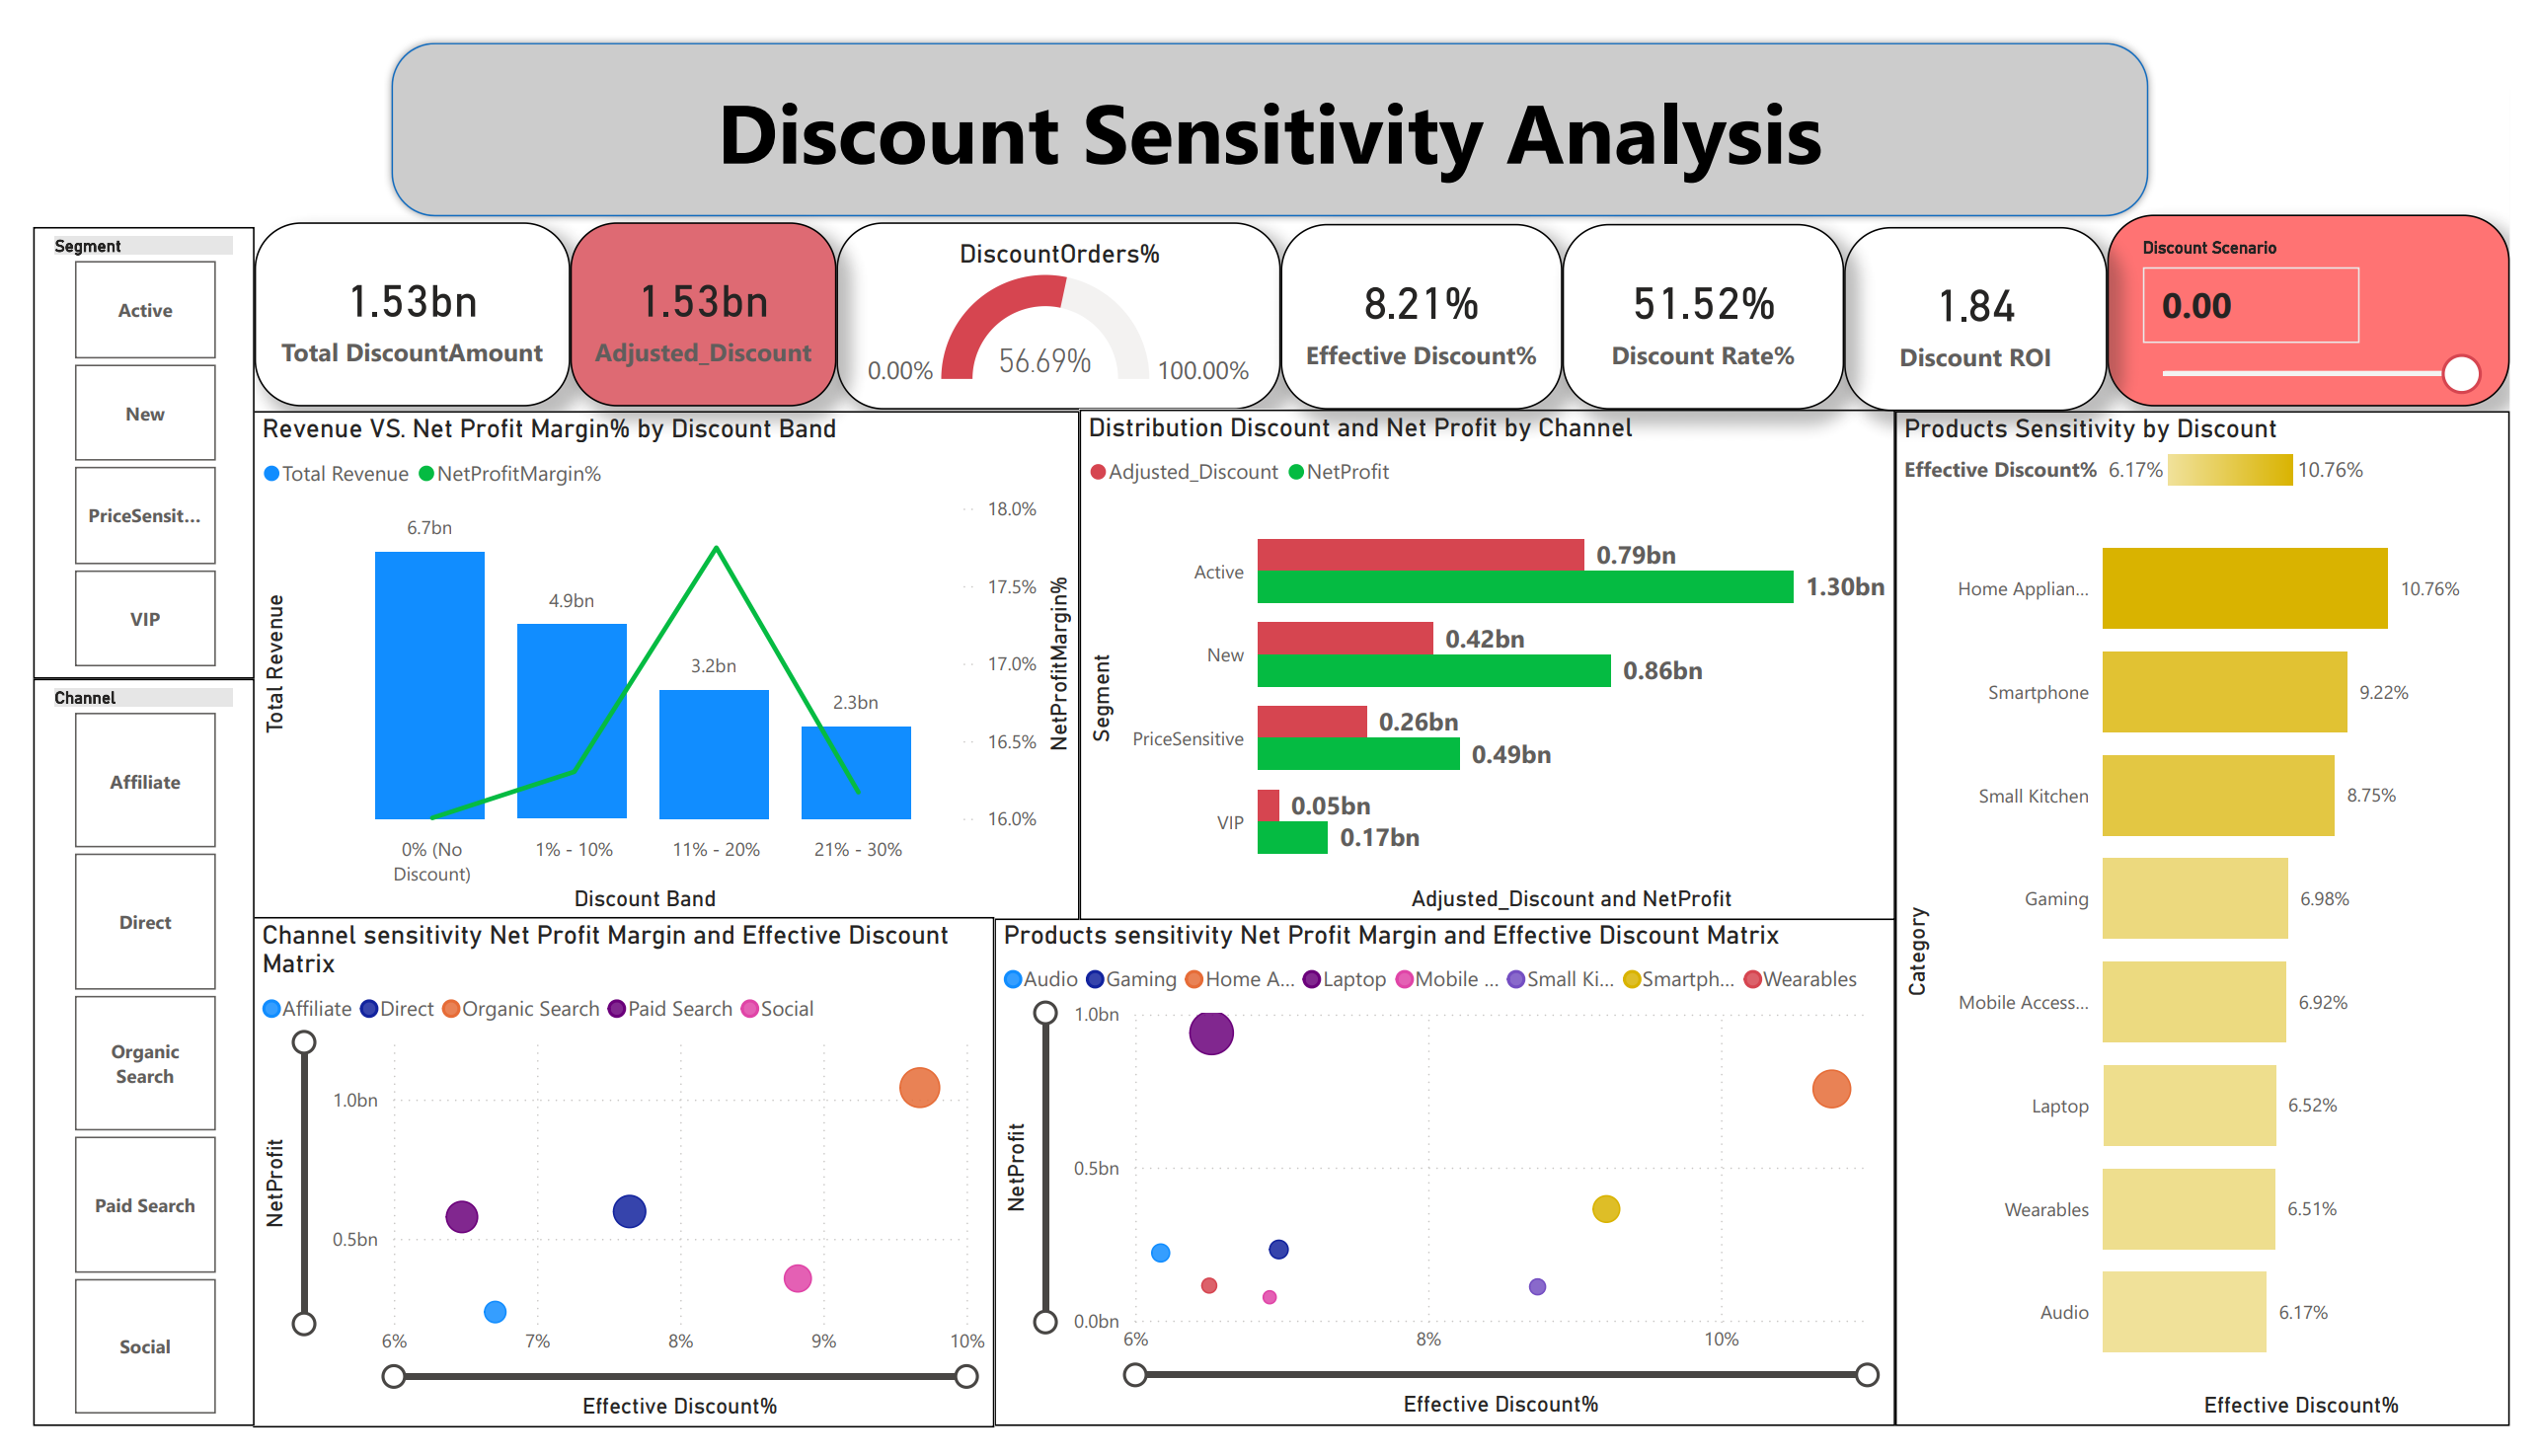

This screenshot's page, from the dashboard's own definition file:
{"tool":"powerbi","page":{"name":"Discount Sensitivity","canvas":[1600,900],"ordinal":1},"visuals":[{"type":"card","fields":{"Values":["Measure_List.Total DiscountAmount"]},"box":[142.8,120.8,204,119.2],"z":0},{"type":"slicer","fields":{"Values":["Discount_value.Discount_value"]},"box":[1339.6,116.1,260.4,123.9],"z":1},{"type":"gauge","fields":{"Y":["Measure_List.%DiscountOrders"]},"box":[519.3,120.8,287.1,120.8],"z":2},{"type":"scatterChart","title":"Products sensitivity Net Profit Margin and Effective Discount Matrix","fields":{"Series":["Products.Category"],"Size":["Measure_List.Revenue"],"X":["Measure_List.Effective Discount%"],"Y":["Measure_List.NetProfit"]},"box":[620.6,570.1,582.4,328.6],"z":3},{"type":"clusteredBarChart","title":"Products Sensitivity by Discount","fields":{"Category":["Products.Category"],"Y":["Measure_List.Effective Discount%"]},"box":[1203.4,243.2,396.9,655.8],"z":4},{"type":"clusteredBarChart","title":"Distribution Discount and Net Profit by Channel","fields":{"Category":["Customers.Segment"],"Y":["Measure_List.Adjusted_Discount","Measure_List.NetProfit"]},"box":[675.6,241.5,527.3,330.2],"z":5},{"type":"card","fields":{"Values":["Measure_List.Discount ROI"]},"box":[1170.2,123.9,169.4,119.2],"z":6},{"type":"shape","box":[227.5,0,1143.3,121.7],"z":7},{"type":"card","fields":{"Values":["Measure_List.Effective Discount%"]},"box":[806.4,122.4,182,119.2],"z":8},{"type":"lineClusteredColumnComboChart","title":"Revenue VS. Net Profit Margin% by Discount Band","fields":{"Category":["Orders.Discount Band"],"Y":["Measure_List.Total Revenue"],"Y2":["Measure_List.NetProfitMargin%"]},"box":[142.2,243,533.5,328.6],"z":9},{"type":"scatterChart","title":"Channel sensitivity Net Profit Margin and Effective Discount Matrix","fields":{"Series":["Marketing.Channel"],"Size":["Measure_List.Revenue"],"X":["Measure_List.Effective Discount%"],"Y":["Measure_List.NetProfit"]},"box":[142.2,570.1,478.4,330.2],"z":10},{"type":"card","fields":{"Values":["Measure_List.Adjusted_Discount"]},"box":[346.7,120.8,172.6,119.2],"z":11},{"type":"slicer","fields":{"Values":["Customers.Segment"]},"box":[0,123.9,142.8,291.8],"z":12},{"type":"slicer","fields":{"Values":["Orders.Channel"]},"box":[0,415.8,142.8,483.2],"z":13},{"type":"card","fields":{"Values":["Measure_List.Discount Rate%"]},"box":[988.2,122.4,182,119.2],"z":14}]}

Visuals, with their boxes in screenshot pixels (x1, y1, x2, y2), scaled from the page's 1600x900 canvas onto the 2539x1456 screenshot:
card - Measure_List.Total DiscountAmount: 227/195/550/388
slicer - Discount_value.Discount_value: 2125/188/2538/388
gauge - Measure_List.%DiscountOrders: 824/195/1279/391
"Products sensitivity Net Profit Margin and Effective Discount Matrix" scatterChart: 985/922/1909/1454
"Products Sensitivity by Discount" clusteredBarChart: 1909/394/2538/1454
"Distribution Discount and Net Profit by Channel" clusteredBarChart: 1072/391/1909/925
card - Measure_List.Discount ROI: 1857/200/2125/393
shape: 361/0/2176/196
card - Measure_List.Effective Discount%: 1279/198/1569/391
"Revenue VS. Net Profit Margin% by Discount Band" lineClusteredColumnComboChart: 226/393/1072/925
"Channel sensitivity Net Profit Margin and Effective Discount Matrix" scatterChart: 226/922/985/1455
card - Measure_List.Adjusted_Discount: 550/195/824/388
slicer - Customers.Segment: 0/200/227/672
slicer - Orders.Channel: 0/672/227/1454
card - Measure_List.Discount Rate%: 1569/198/1857/391
